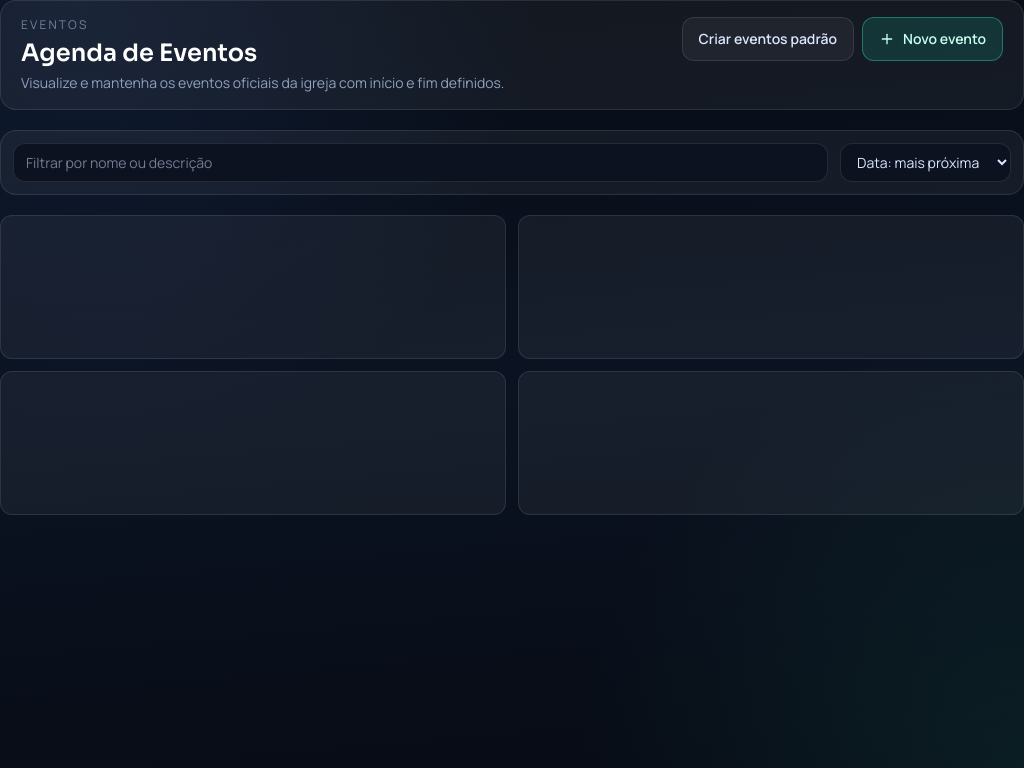
Scenario: EventsPage — Recorrência › should validate single event requires all fields
Click the button "Novo evento": x=933, y=39 [862,17,1003,61]
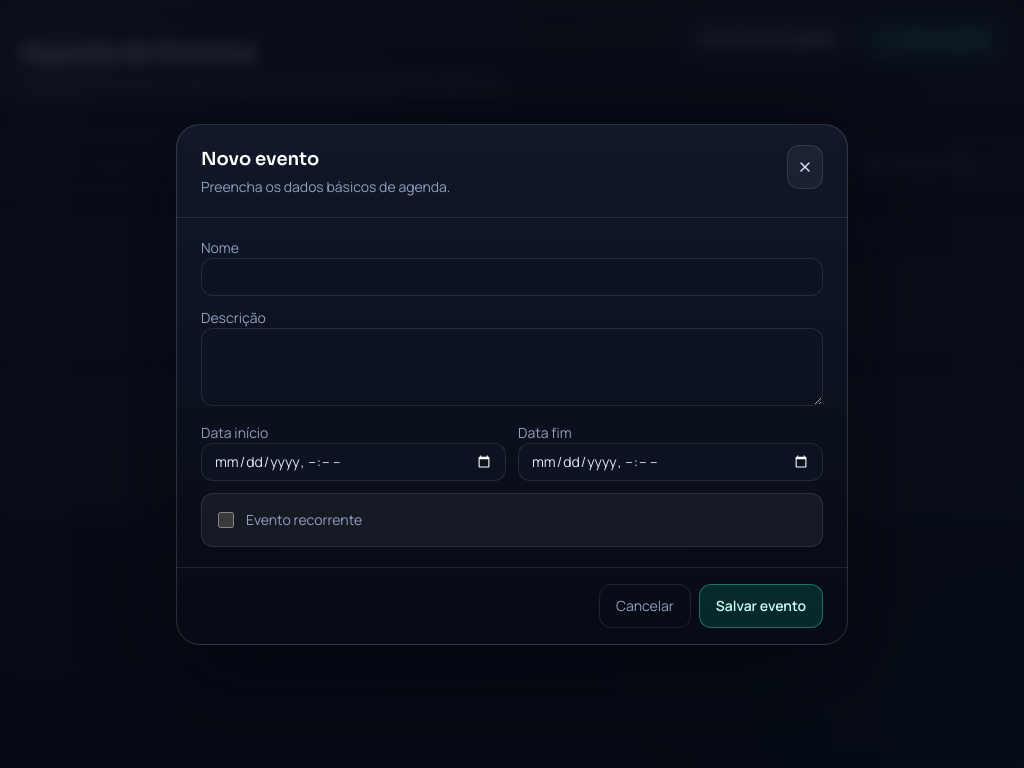
Click the button "Salvar evento": x=761, y=606 [699,584,823,628]
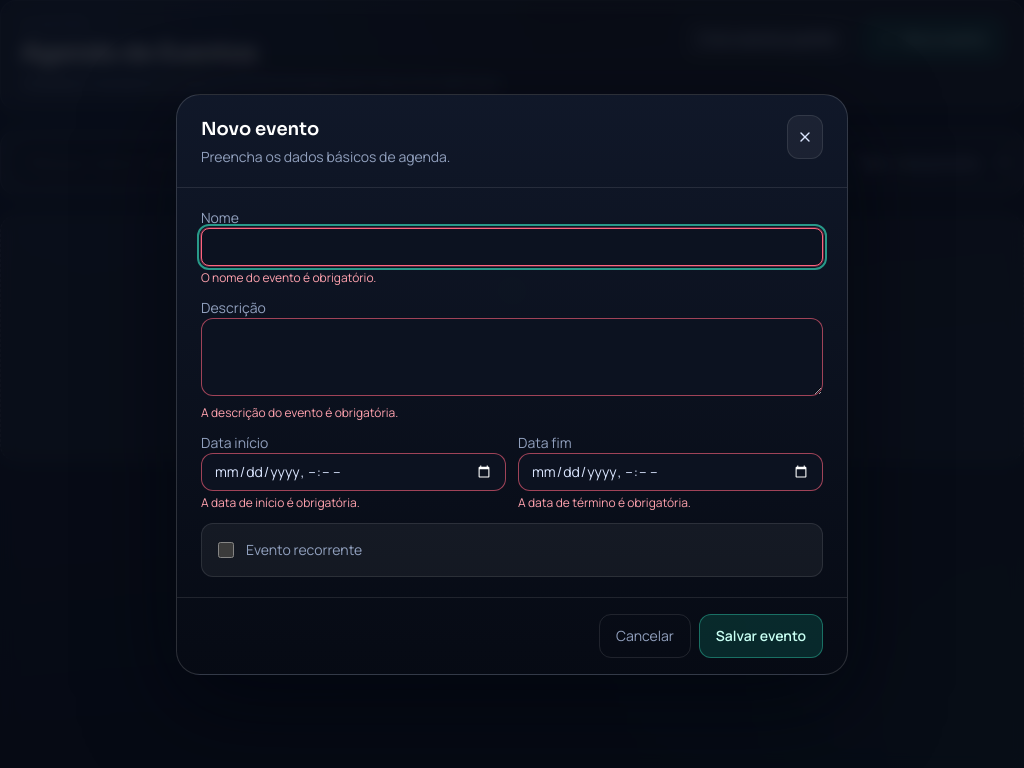
Check: the text "O nome do evento é obrigatório." is shown, box [201,268,376,286]
Check: the text "A descrição do evento é obrigatória." is shown, box [201,404,398,420]
Check: the text "A data de início é obrigatória." is shown, box [201,494,360,510]
